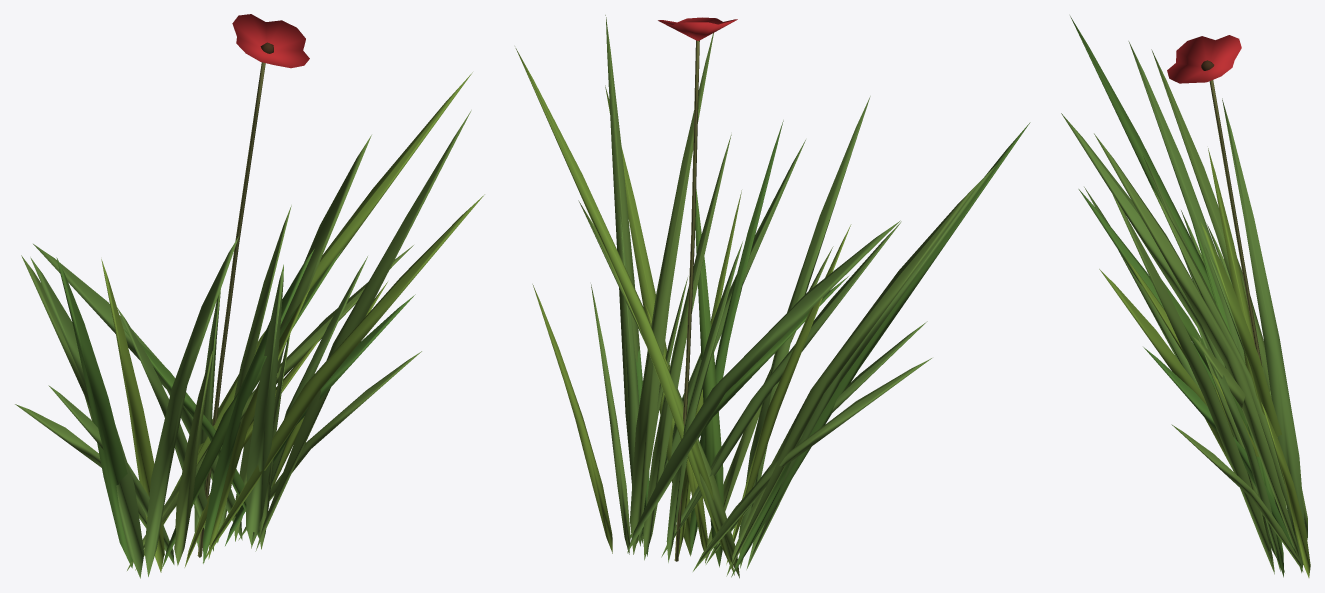
Rendered from walltuft_poppy.glb.
The picture shows the model from 3 angles, left to right: view 1: azimuth 30°, elevation 25°; view 2: azimuth 150°, elevation 25°; view 3: azimuth 270°, elevation 25°; orthographic projection. The views are drawn at different scales.
Parts seen in each view (by area): view 1: Sammel Pflanze, Sammel Putz; view 2: Sammel Pflanze, Sammel Putz; view 3: Sammel Pflanze, Sammel Putz.
Boxes of the visible parts, box(x1,y1,x2,y2) form: Sammel Pflanze: box(15, 14, 484, 578); Sammel Putz: box(197, 62, 265, 557); Sammel Pflanze: box(515, 15, 1030, 578); Sammel Putz: box(674, 40, 699, 561); Sammel Pflanze: box(1061, 16, 1310, 577); Sammel Putz: box(1209, 80, 1262, 366).
Bounding box in the file's own units: 0.4211 × 0.4614 × 0.2021.
